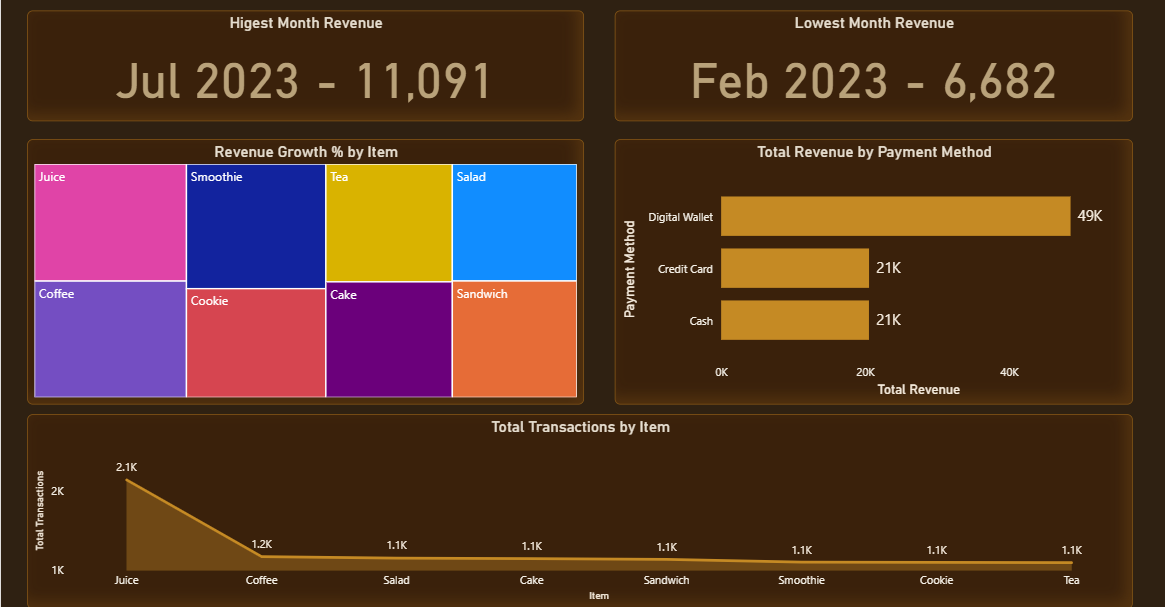

This screenshot's page, from the dashboard's own definition file:
{"tool":"powerbi","page":{"name":"Sales Insights","canvas":[1280,720],"ordinal":1},"visuals":[{"type":"card","title":"Higest Month  Revenue","fields":{"Values":["dirty_cafe_sales_Cleaned.Highest Month Info"]},"box":[28.3,63.7,611.1,121.7],"z":0},{"type":"card","title":"Lowest Month Revenue","fields":{"Values":["dirty_cafe_sales_Cleaned.Lowest Month Info"]},"box":[673.4,63.7,568.7,121.7],"z":1000},{"type":"treemap","fields":{"Group":["dirty_cafe_sales_Cleaned.Item"],"Values":["dirty_cafe_sales_Cleaned.Revenue Growth %"]},"box":[28.3,205.1,611.1,291.4],"z":1002},{"type":"clusteredBarChart","fields":{"Y":["dirty_cafe_sales_Cleaned.Total Revenue"],"Category":["dirty_cafe_sales_Cleaned.Payment Method"]},"box":[673.4,205.1,568.7,291.4],"z":1003},{"type":"areaChart","fields":{"Category":["dirty_cafe_sales_Cleaned.Item"],"Y":["dirty_cafe_sales_Cleaned.Total Transactions"]},"box":[28.3,506.5,1213.8,213.6],"z":1005}]}

Visuals, with their boxes on the page's 1280x720 design canvas (x1, y1, x2, y2). These are canvas units, not pixel positions in the 1165x607 screenshot, which may show the page scaled, cropped or inside an application window:
"Higest Month  Revenue" card: bbox(28, 64, 639, 185)
"Lowest Month Revenue" card: bbox(673, 64, 1242, 185)
treemap - dirty_cafe_sales_Cleaned.Item x dirty_cafe_sales_Cleaned.Revenue Growth %: bbox(28, 205, 639, 496)
clusteredBarChart - dirty_cafe_sales_Cleaned.Total Revenue x dirty_cafe_sales_Cleaned.Payment Method: bbox(673, 205, 1242, 496)
areaChart - dirty_cafe_sales_Cleaned.Item x dirty_cafe_sales_Cleaned.Total Transactions: bbox(28, 506, 1242, 720)
